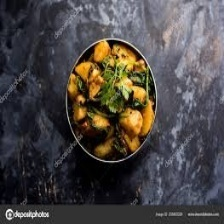sabzi: (67, 38, 155, 162)
